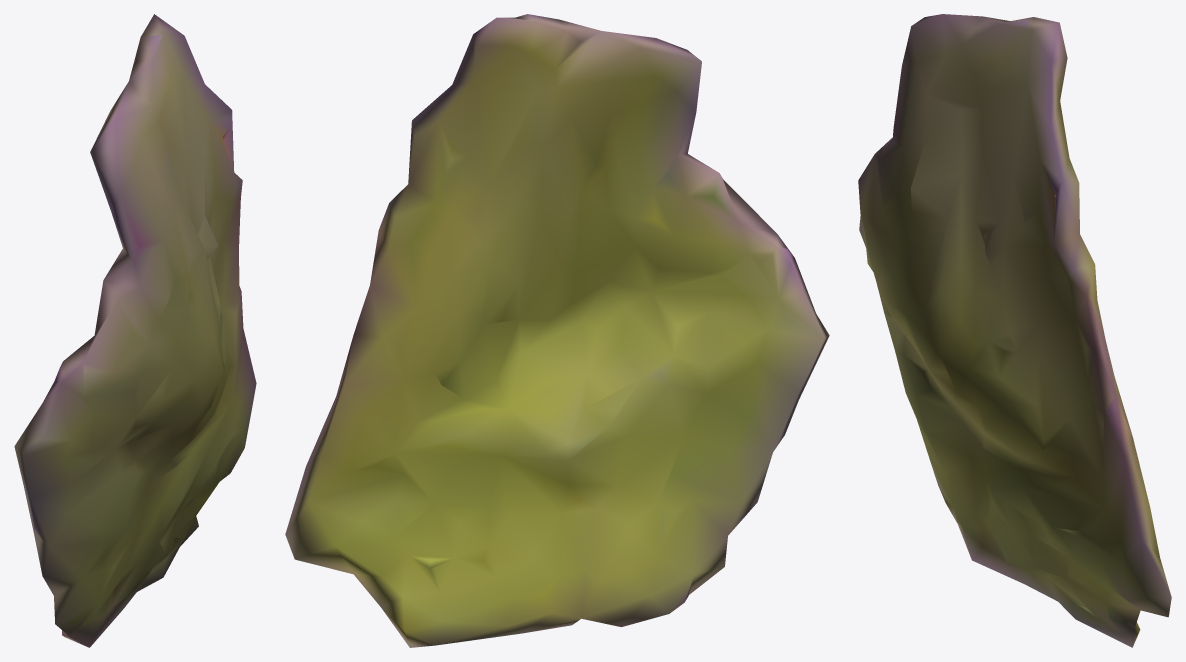
The model's file is fragmento_re_sustenido.glb.
The picture shows the model from 3 angles, left to right: view 1: azimuth 30°, elevation 25°; view 2: azimuth 150°, elevation 25°; view 3: azimuth 270°, elevation 25°; orthographic projection. The views are drawn at different scales.
Bounding box in the file's own units: 0.6629 × 0.9968 × 0.4706.
